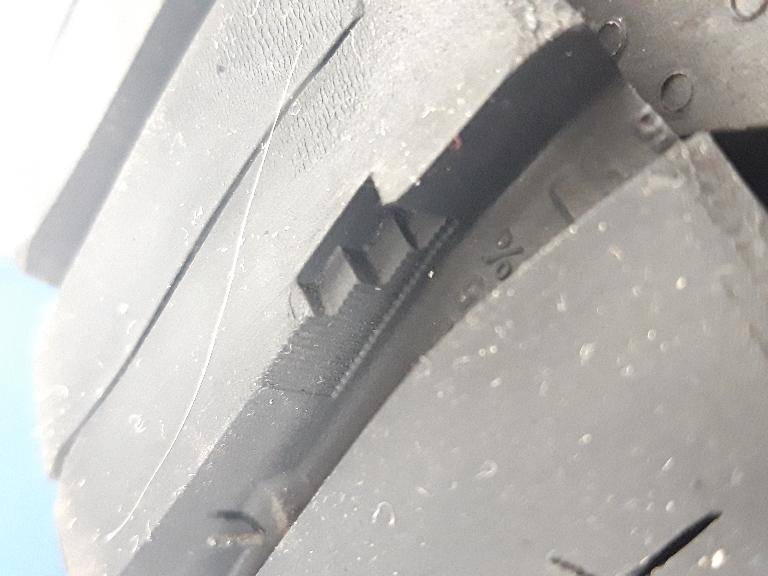temoin:75: (268, 165, 472, 359)
